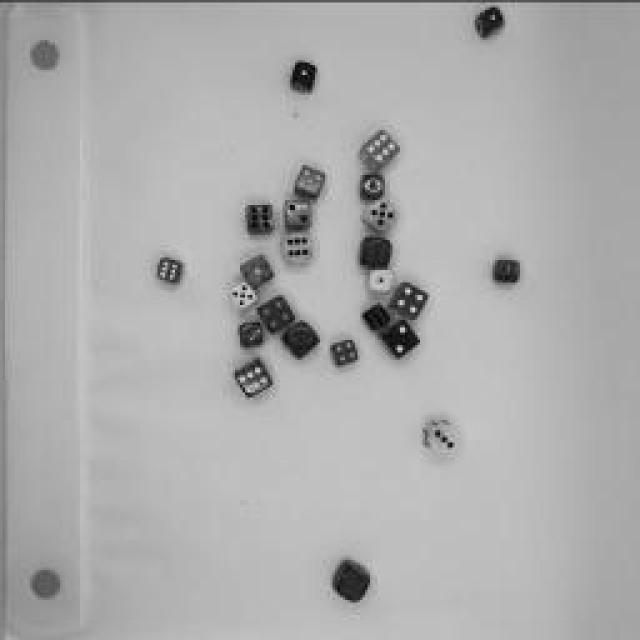dice_1: (473, 5, 505, 40), (288, 61, 320, 91), (246, 253, 276, 285), (355, 170, 387, 198), (365, 268, 397, 292)
dice_2: (386, 318, 419, 360), (288, 316, 320, 359), (281, 198, 311, 228)
dice_3: (422, 419, 462, 451), (238, 319, 262, 349)
dice_4: (327, 559, 375, 601), (391, 280, 431, 315), (260, 295, 295, 330), (329, 338, 359, 372)
dice_5: (361, 198, 399, 234), (290, 169, 328, 196), (226, 282, 259, 308)
dice_6: (356, 128, 402, 172), (230, 356, 275, 399), (355, 236, 393, 269), (243, 200, 275, 235), (281, 233, 314, 265), (360, 298, 390, 330), (153, 255, 185, 285), (491, 256, 521, 284)
